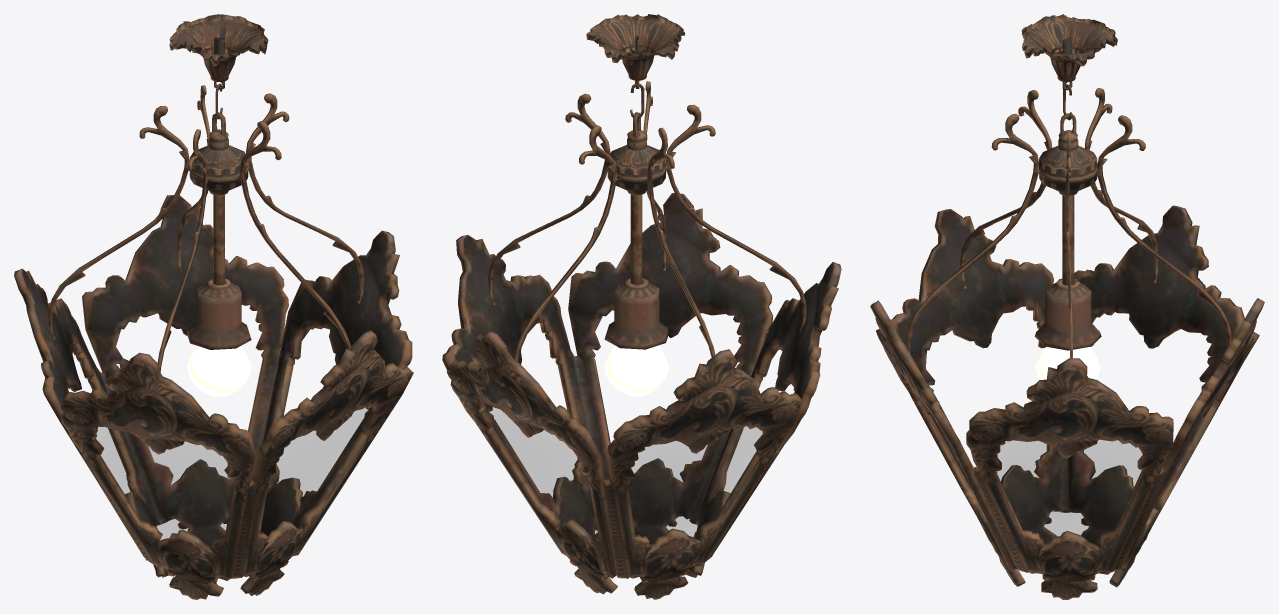
Rendered from lantern_chandelier_01.glb.
3 views of the same model, side by side, from view 1: azimuth 30°, elevation 25°; view 2: azimuth 150°, elevation 25°; view 3: azimuth 270°, elevation 25° (orthographic).
Parts seen in each view (by area): view 1: lantern_chandelier_01; view 2: lantern_chandelier_01; view 3: lantern_chandelier_01.
Boxes of the visible parts, left/top/right/bottom form: lantern_chandelier_01: left=14, top=14, right=413, bottom=599; lantern_chandelier_01: left=442, top=14, right=841, bottom=599; lantern_chandelier_01: left=870, top=14, right=1264, bottom=599.
Size of the model in its own units: 0.5792 by 0.8776 by 0.5746.
3 materials, 2 textured.
